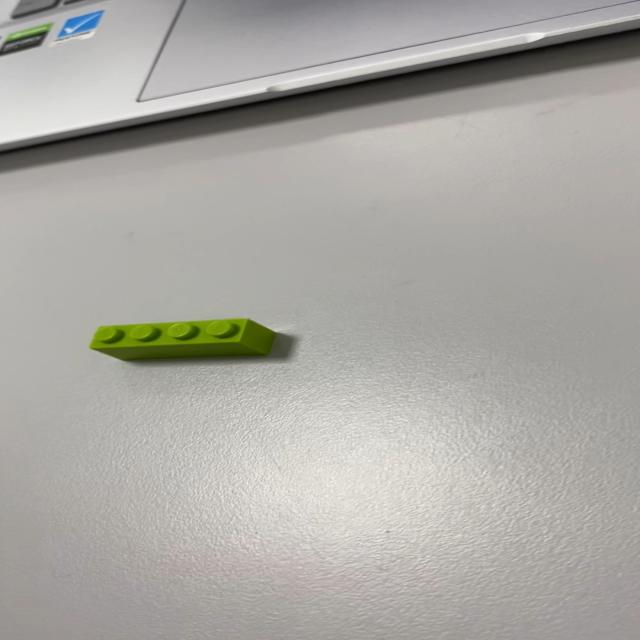C4x1x1: (88, 317, 276, 361)
